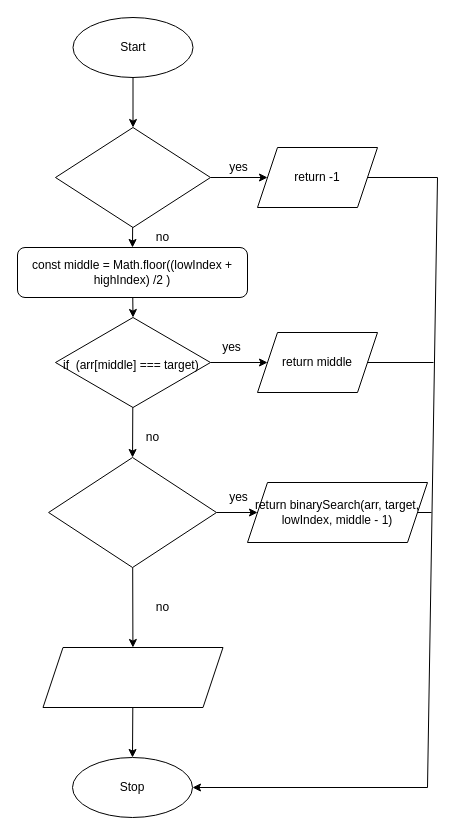
Image size: 463x835. Some labels were removed from this diagram. Each missing label, with the centre of its shape:
"else if (arr[mddle] > target" goes at point (132, 512).
"if (lowIndex > highIndex)" goes at point (132, 177).
"return binarySearch(arr, target, middle + 1. highIndex" goes at point (132, 677).
